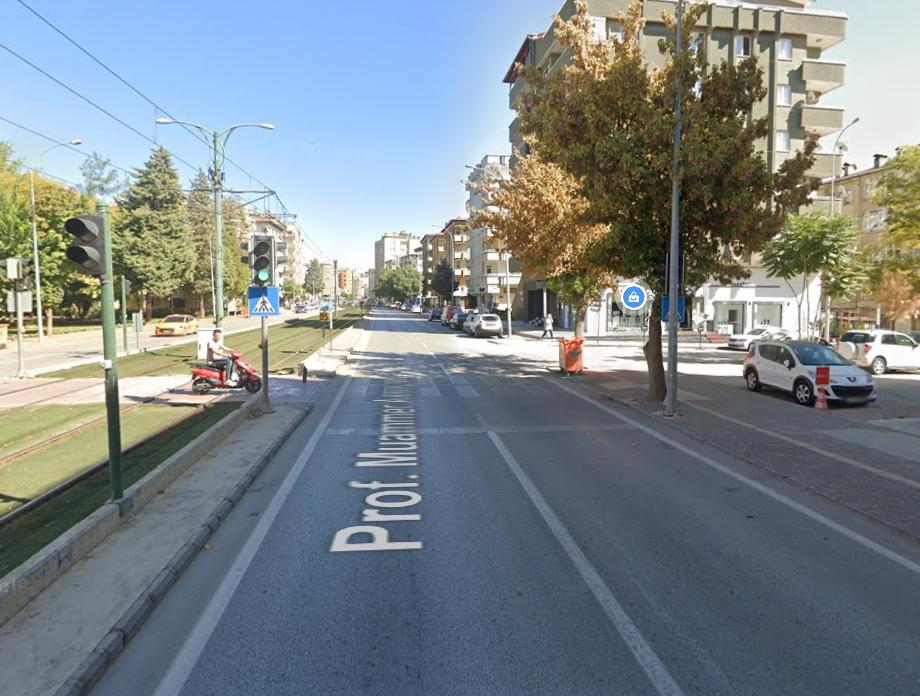greenlight: (252, 233, 274, 286)
